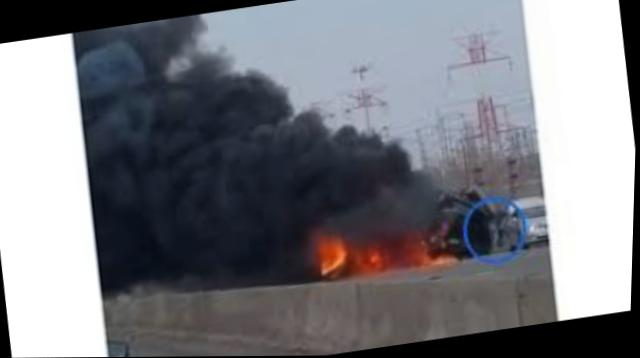fire: (309, 202, 464, 291)
